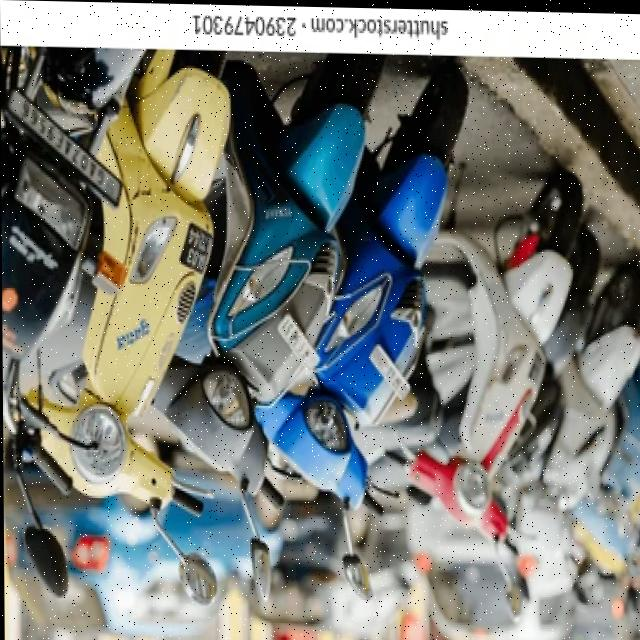plate: (3, 87, 128, 212), (275, 310, 322, 377), (368, 340, 412, 401)
